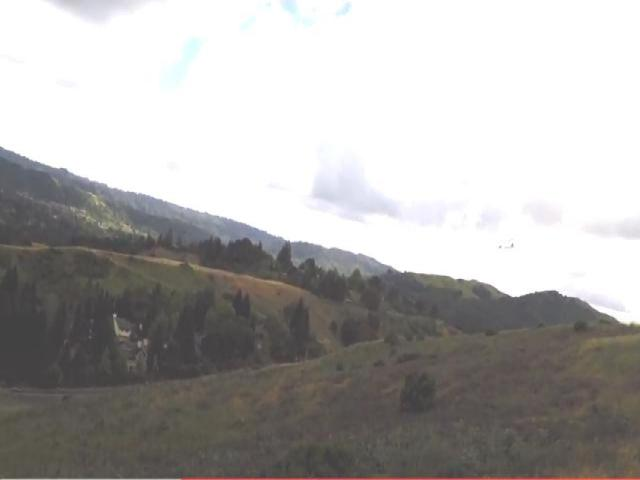iha: (496, 239, 516, 256)
